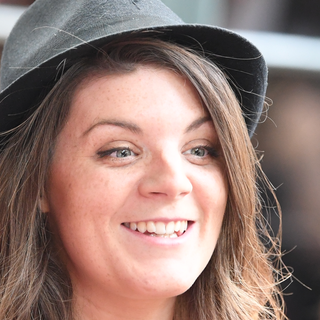eye: (94, 139, 145, 166), (174, 140, 220, 166)
